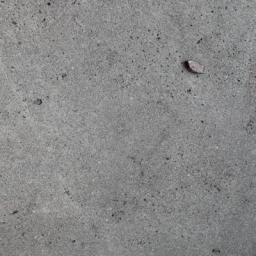FOD: (184, 55, 210, 80)
